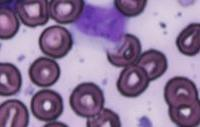M: (73, 3, 129, 44)
